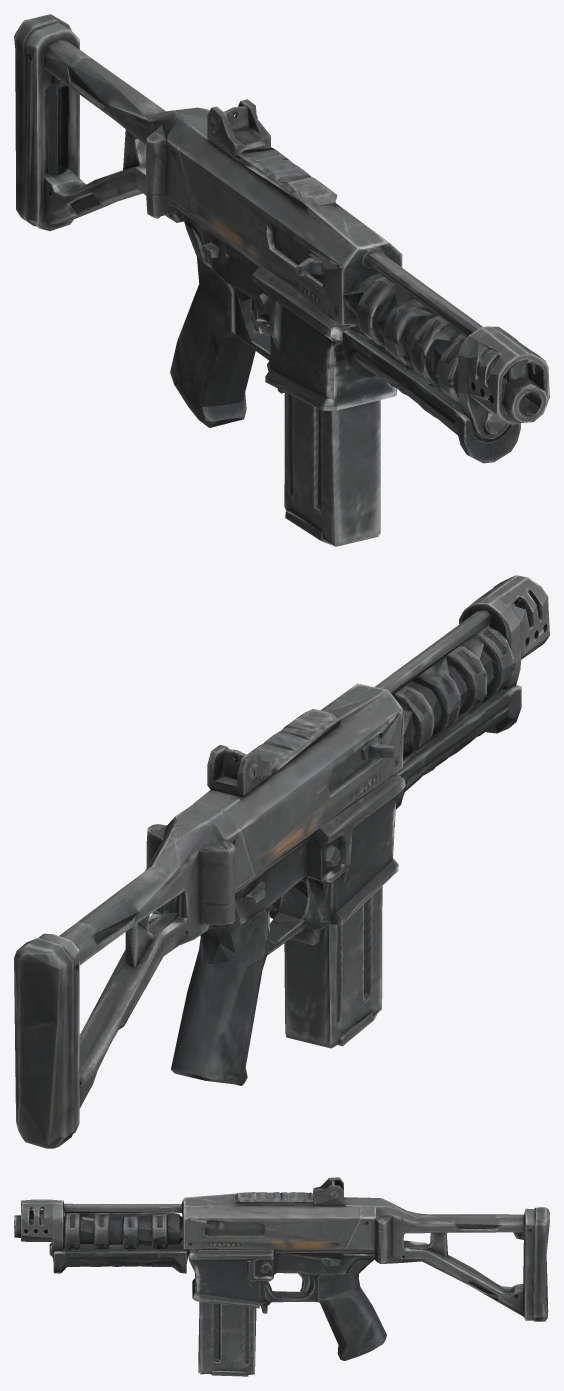
The model's file is rifle.glb.
3 views of the same model, one above another, from view 1: azimuth 30°, elevation 25°; view 2: azimuth 150°, elevation 25°; view 3: azimuth 270°, elevation 25° (orthographic). The views are drawn at different scales.
Visible parts, largest first — view 1: Mesh_0; view 2: Mesh_0; view 3: Mesh_0.
Part boxes in pixels (box(x1,y1,x2,y2)): Mesh_0: box(14, 14, 549, 546); Mesh_0: box(14, 575, 549, 1148); Mesh_0: box(14, 1177, 549, 1376).
Size of the model in its own units: 0.1012 by 0.3672 by 0.95.
Materials: 1 (1 with a texture image).
